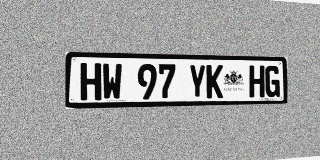7: (157, 64, 176, 99)
9: (138, 64, 157, 100)
G: (265, 66, 280, 97)
H: (80, 63, 101, 101), (249, 65, 265, 98)
K: (206, 65, 223, 98)
W: (102, 63, 122, 100)
Y: (188, 64, 206, 99)
